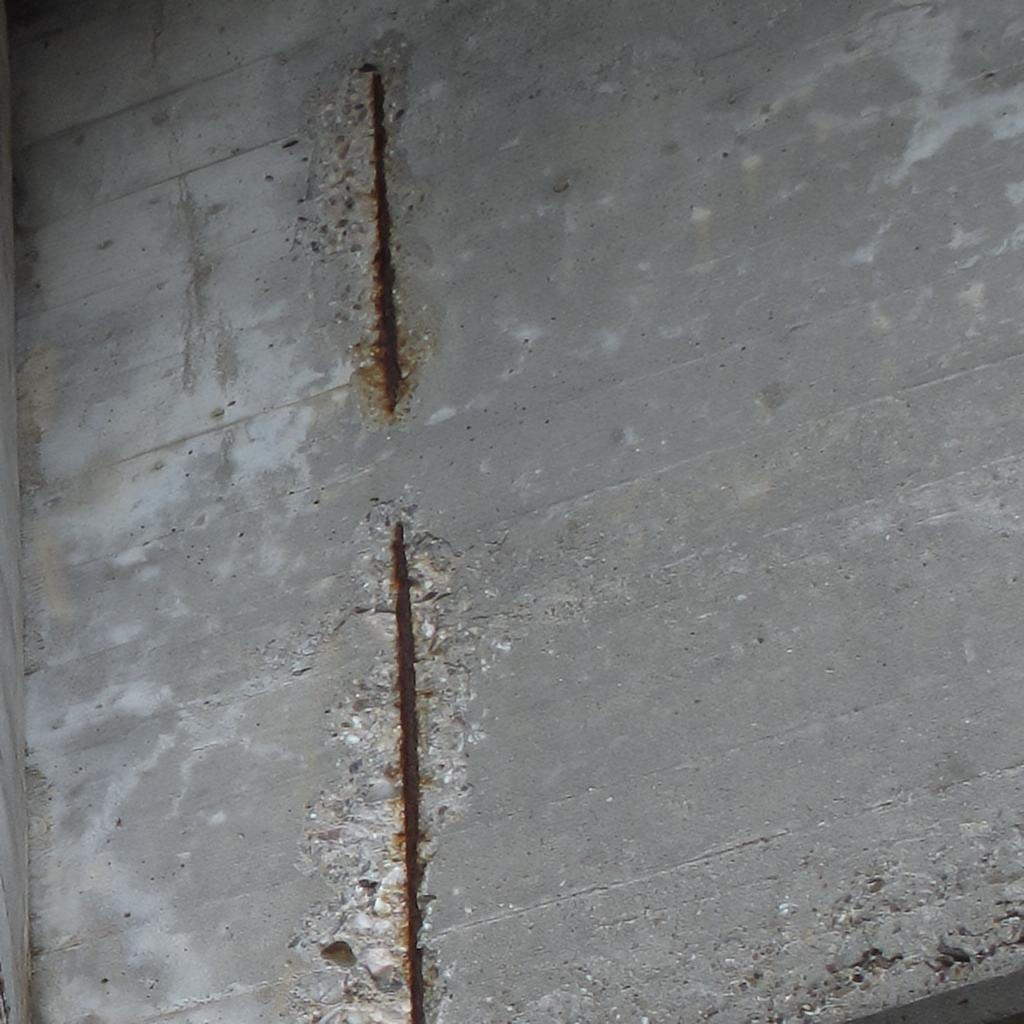exposed_rebar: (390, 522, 426, 1023), (370, 68, 402, 414)
spalling: (290, 496, 474, 1024), (298, 38, 432, 431)
